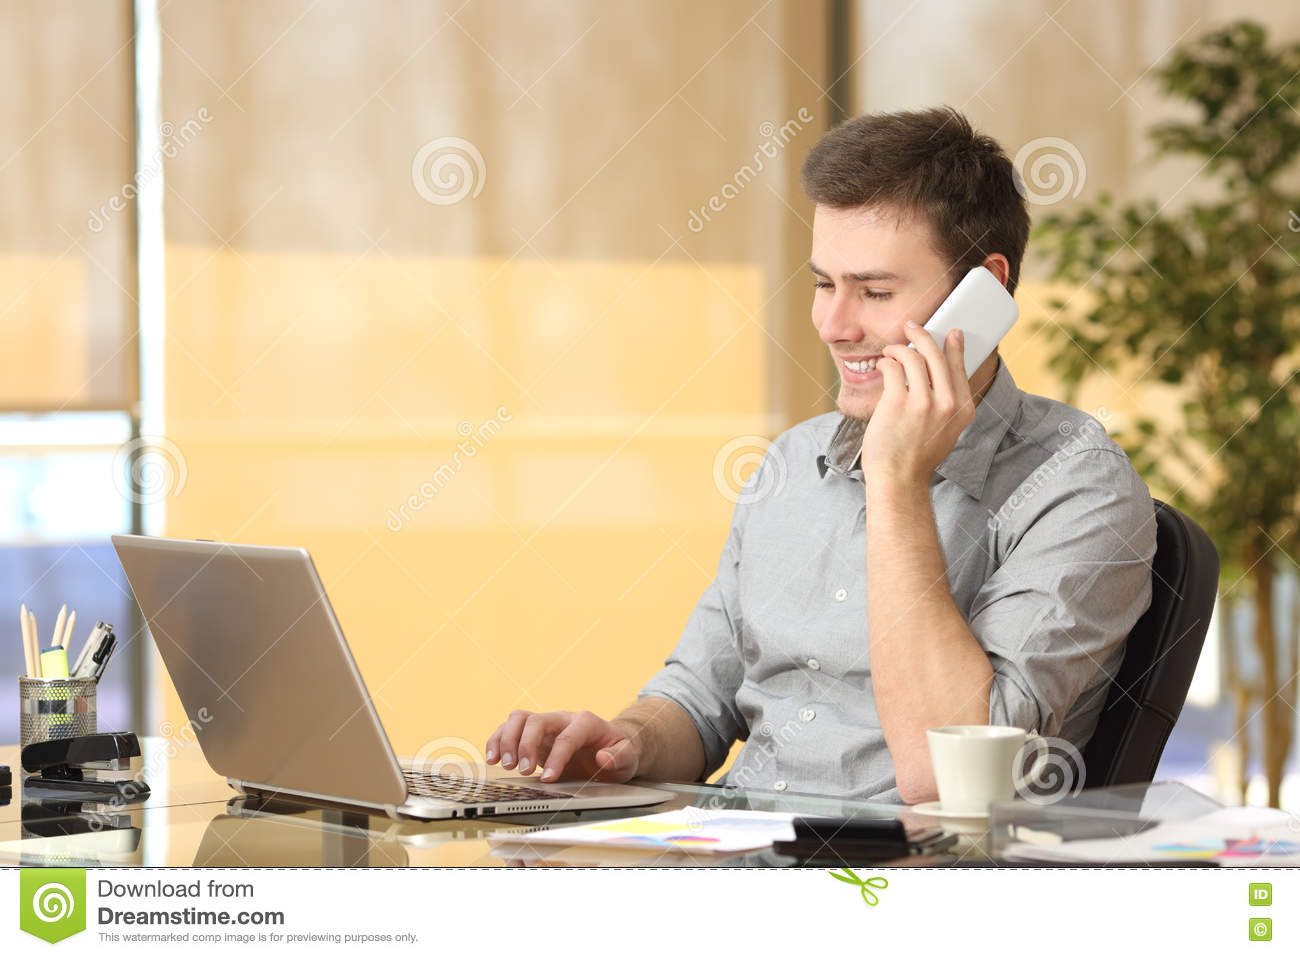phone: (905, 265, 1015, 399)
talk: (803, 254, 1019, 499)
